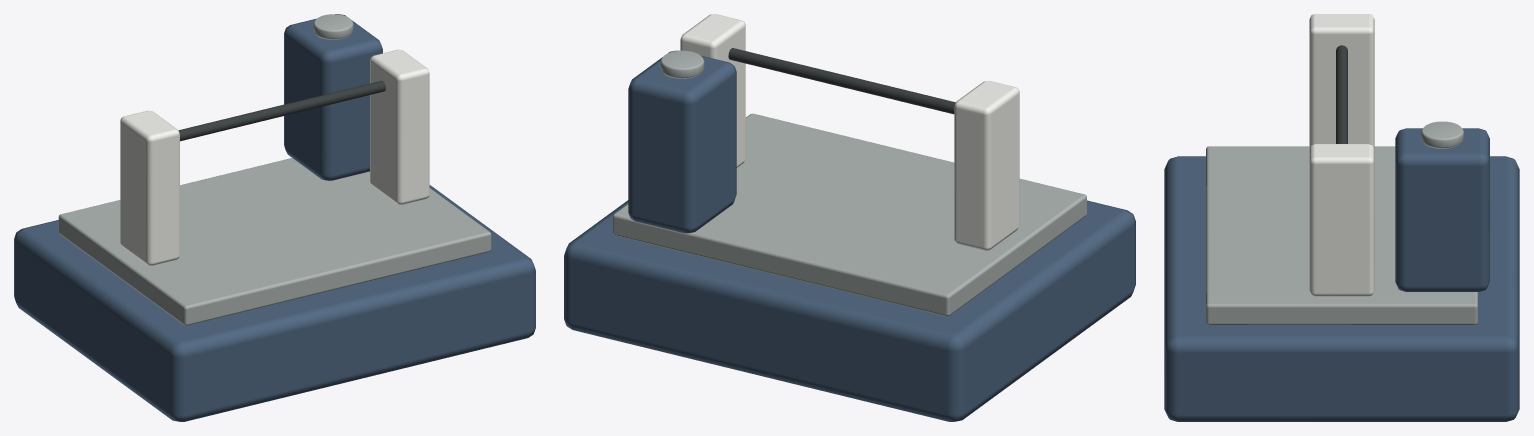
Rendered from spacecraft-parachute-packing-hall-spacecraft-parachute-c8233f95__32111.glb.
3 views of the same model, side by side, from view 1: azimuth 30°, elevation 25°; view 2: azimuth 150°, elevation 25°; view 3: azimuth 270°, elevation 25° (orthographic). The views are drawn at different scales.
Visible parts, largest first — view 1: spacecraft-parachute-packing-hall-webbing-hot-cutting-statio (×4); view 2: spacecraft-parachute-packing-hall-webbing-hot-cutting-statio (×4); view 3: spacecraft-parachute-packing-hall-webbing-hot-cutting-statio (×4).
Boxes of the visible parts, <box> form: spacecraft-parachute-packing-hall-webbing-hot-cutting-statio (×4): <box>14,14,535,421</box>; spacecraft-parachute-packing-hall-webbing-hot-cutting-statio (×4): <box>564,14,1135,421</box>; spacecraft-parachute-packing-hall-webbing-hot-cutting-statio (×4): <box>1164,14,1519,421</box>.
Size of the model in its own units: 0.38 by 0.24 by 0.3.
